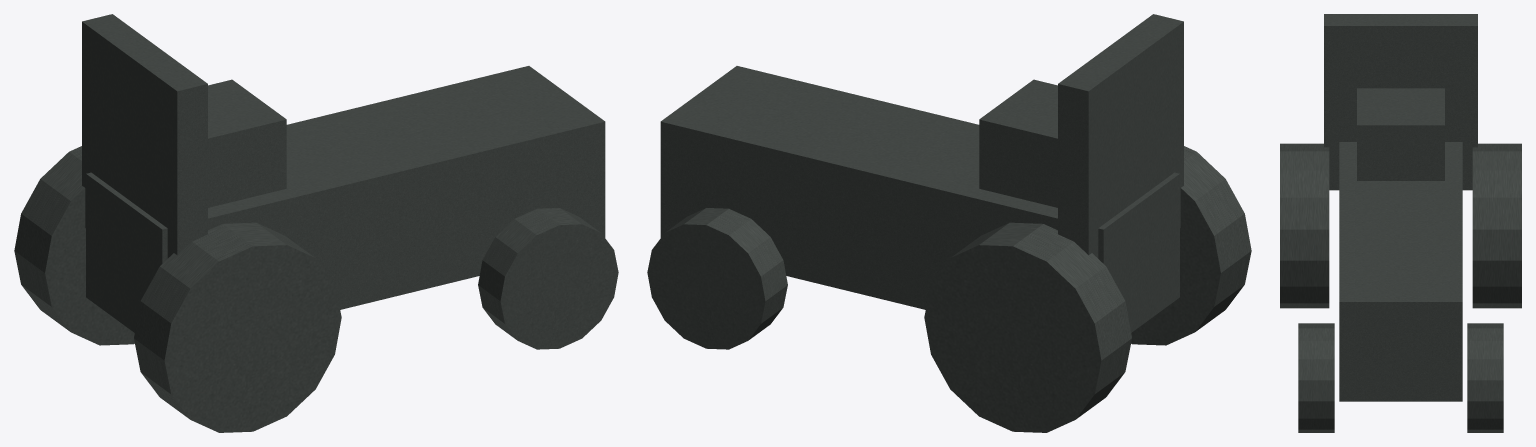
The model's file is PZ_FIELDWARD_75D_Optional_UCX_Collision.glb.
The picture shows the model from 3 angles, left to right: view 1: azimuth 30°, elevation 25°; view 2: azimuth 150°, elevation 25°; view 3: azimuth 270°, elevation 25°; orthographic projection. The views are drawn at different scales.
Parts seen in each view (by area): view 1: UCX_TRACTOR_CHASSIS_00, UCX_REAR_R_WHEEL, UCX_TRACTOR_ROPS_01, UCX_FRONT_R_WHEEL, UCX_REAR_L_WHEEL, UCX_TRACTOR_SEAT_02; view 2: UCX_TRACTOR_CHASSIS_00, UCX_REAR_L_WHEEL, UCX_TRACTOR_ROPS_01, UCX_FRONT_L_WHEEL, UCX_REAR_R_WHEEL, UCX_TRACTOR_SEAT_02; view 3: UCX_TRACTOR_CHASSIS_00, UCX_TRACTOR_ROPS_01, UCX_REAR_L_WHEEL, UCX_REAR_R_WHEEL, UCX_TRACTOR_SEAT_02, UCX_FRONT_L_WHEEL, UCX_FRONT_R_WHEEL.
Part boxes in pixels (x1,y1,x2,y2): UCX_TRACTOR_CHASSIS_00: (86, 66, 605, 332); UCX_REAR_R_WHEEL: (134, 222, 341, 432); UCX_TRACTOR_ROPS_01: (82, 14, 207, 258); UCX_FRONT_R_WHEEL: (478, 208, 618, 349); UCX_REAR_L_WHEEL: (14, 146, 134, 345); UCX_TRACTOR_SEAT_02: (208, 79, 286, 207); UCX_TRACTOR_CHASSIS_00: (660, 66, 1179, 332); UCX_REAR_L_WHEEL: (924, 222, 1131, 432); UCX_TRACTOR_ROPS_01: (1058, 14, 1183, 258); UCX_FRONT_L_WHEEL: (647, 208, 787, 349); UCX_REAR_R_WHEEL: (1131, 146, 1251, 345); UCX_TRACTOR_SEAT_02: (979, 79, 1057, 207); UCX_TRACTOR_CHASSIS_00: (1339, 142, 1462, 401); UCX_TRACTOR_ROPS_01: (1324, 14, 1477, 190); UCX_REAR_L_WHEEL: (1472, 143, 1521, 308); UCX_REAR_R_WHEEL: (1280, 143, 1329, 308); UCX_TRACTOR_SEAT_02: (1357, 88, 1444, 180); UCX_FRONT_L_WHEEL: (1467, 323, 1503, 432); UCX_FRONT_R_WHEEL: (1298, 323, 1334, 432).
Bounding box in the file's own units: 4.04 × 2.71 × 2.2.
1 material, 1 textured.
